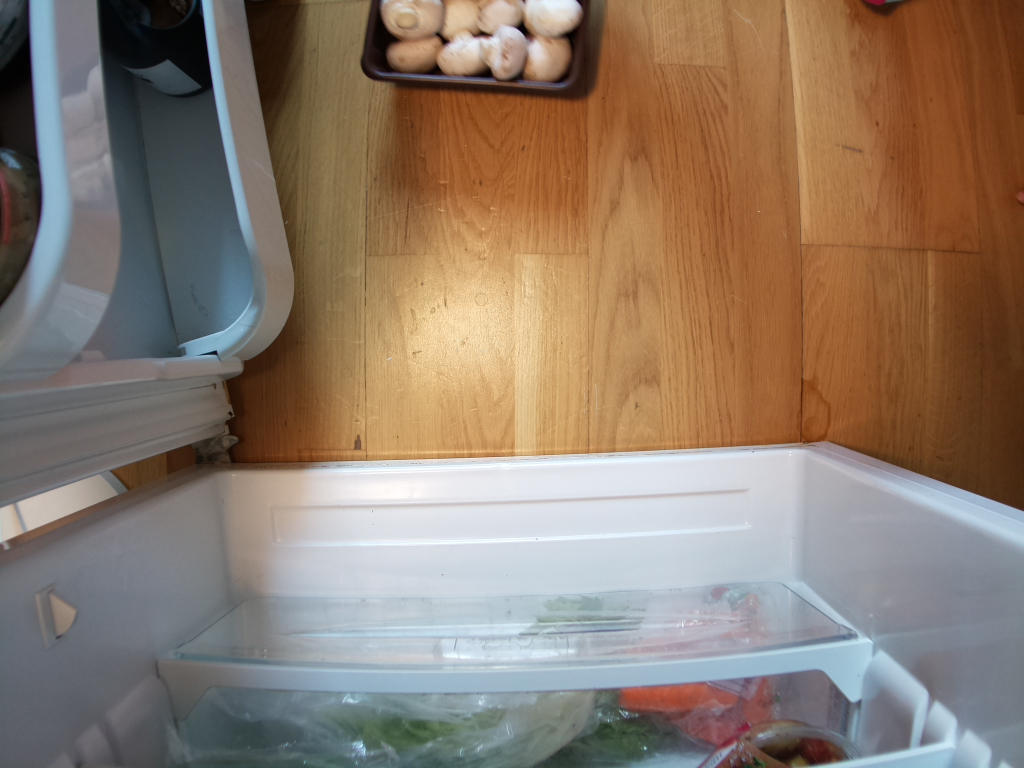mushrooms: (369, 1, 606, 100)
